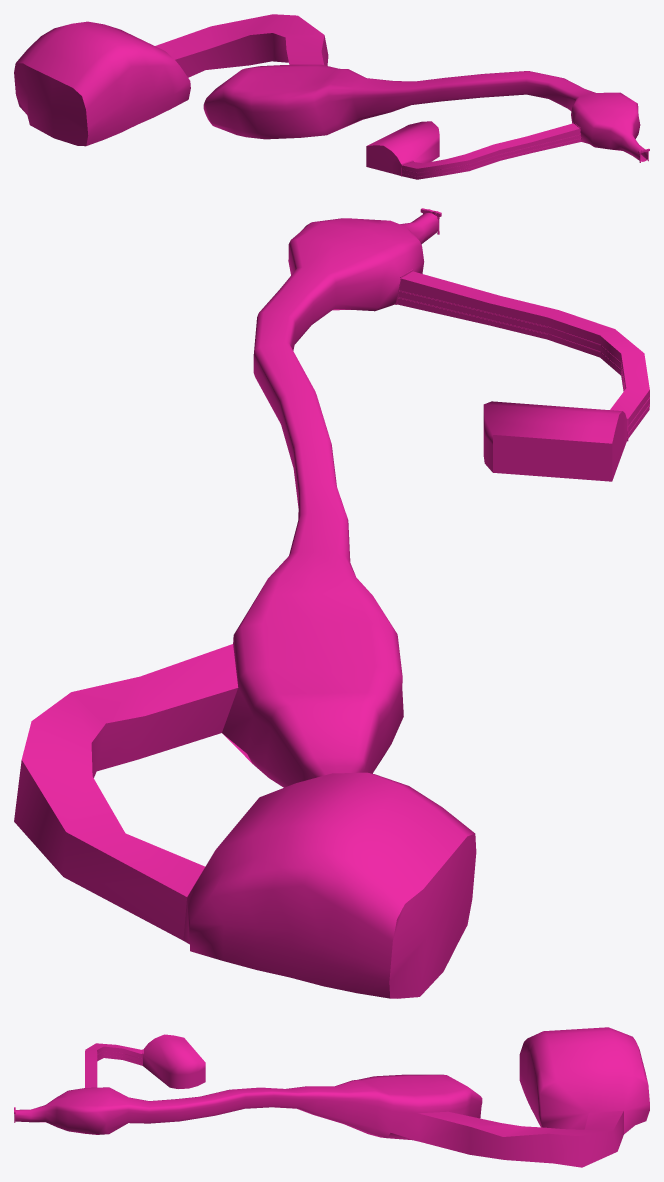
The model's file is Cave.fbx.
3 renders of one model, top to bottom at view 1: azimuth 30°, elevation 25°; view 2: azimuth 150°, elevation 25°; view 3: azimuth 270°, elevation 25°, orthographic. The views are drawn at different scales.
Parts seen in each view (by area): view 1: Box001, Cave_wood; view 2: Box001; view 3: Box001, Cave_1.
Part boxes in pixels (x1,y1,x2,y2): Box001: (14, 14, 647, 179); Cave_wood: (401, 122, 649, 177); Box001: (14, 213, 649, 998); Box001: (15, 1027, 649, 1167); Cave_1: (40, 1107, 417, 1141).
Size of the model in its own units: 7002 by 2891 by 12038.
